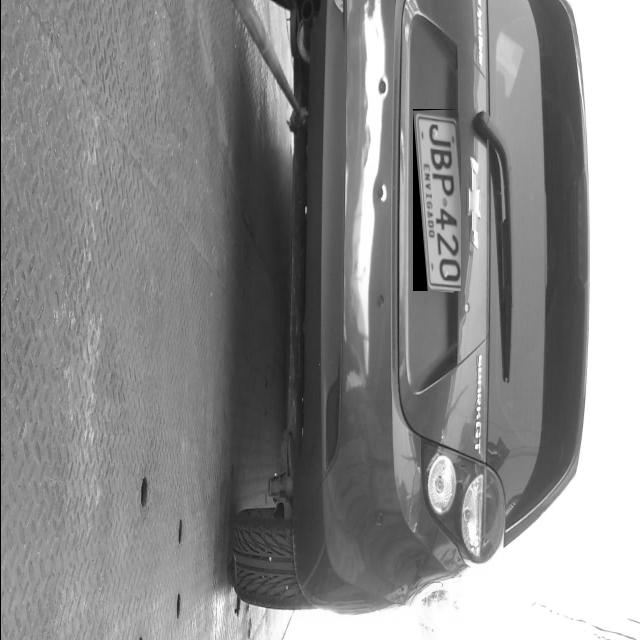plate: (412, 111, 460, 291)
